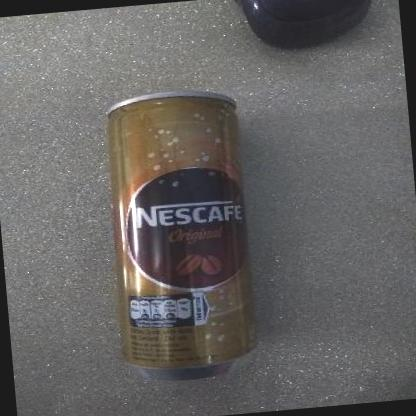alumunium_can: (98, 82, 264, 385)
